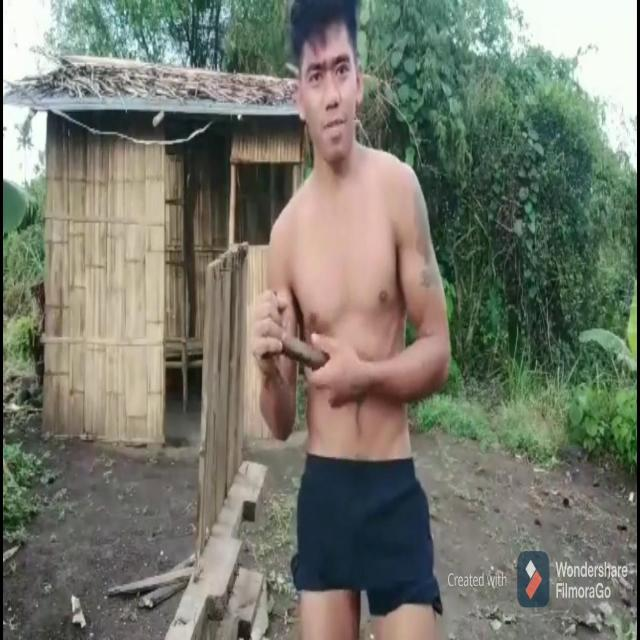hammer: (264, 290, 331, 382)
